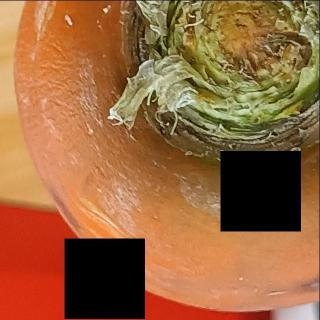carrot: (10, 0, 320, 318)
